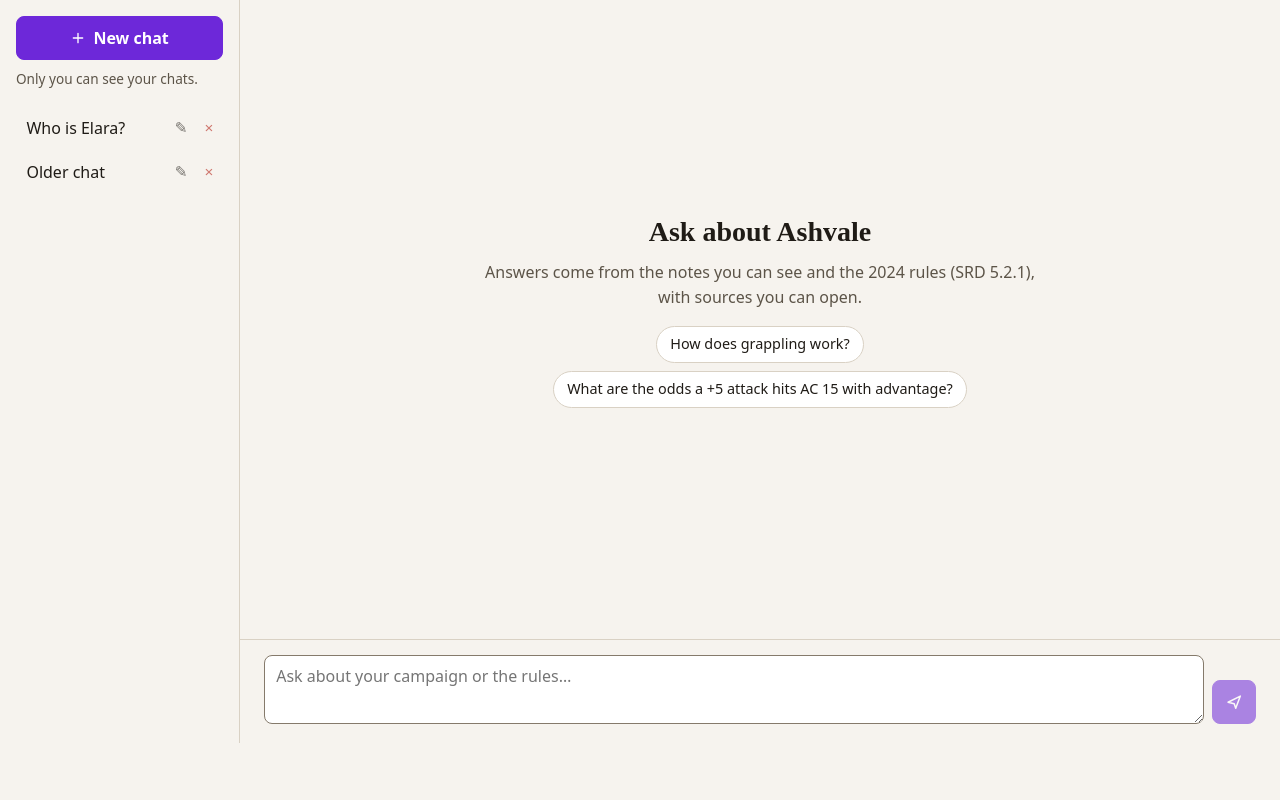
Test case: ChatPage thread switching › C2: an answer that arrives after switching threads isn't shown in the other thread
In the text box named "Your question": (734, 689) [264,655,1204,724], type "Who is Elara?"
Then press Enter
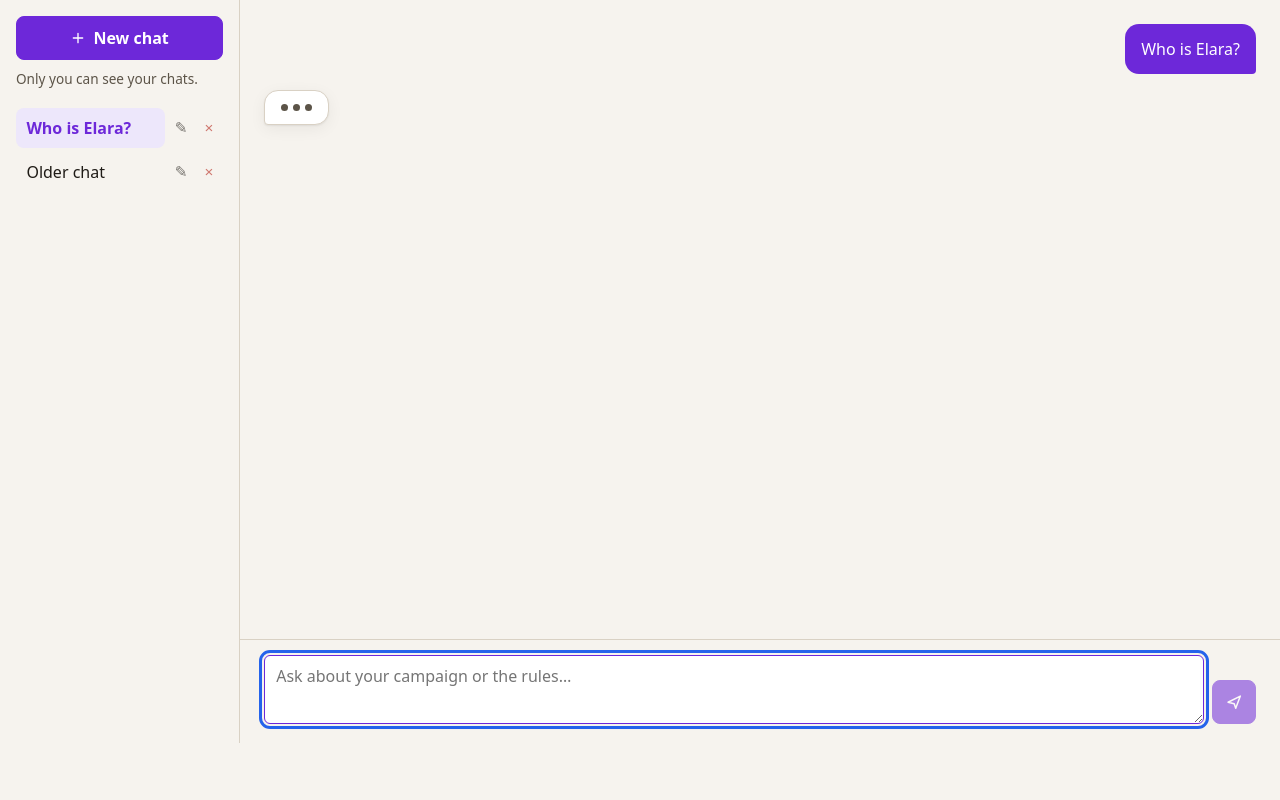
Click the button "Older chat": (90, 172) [16,152,165,192]
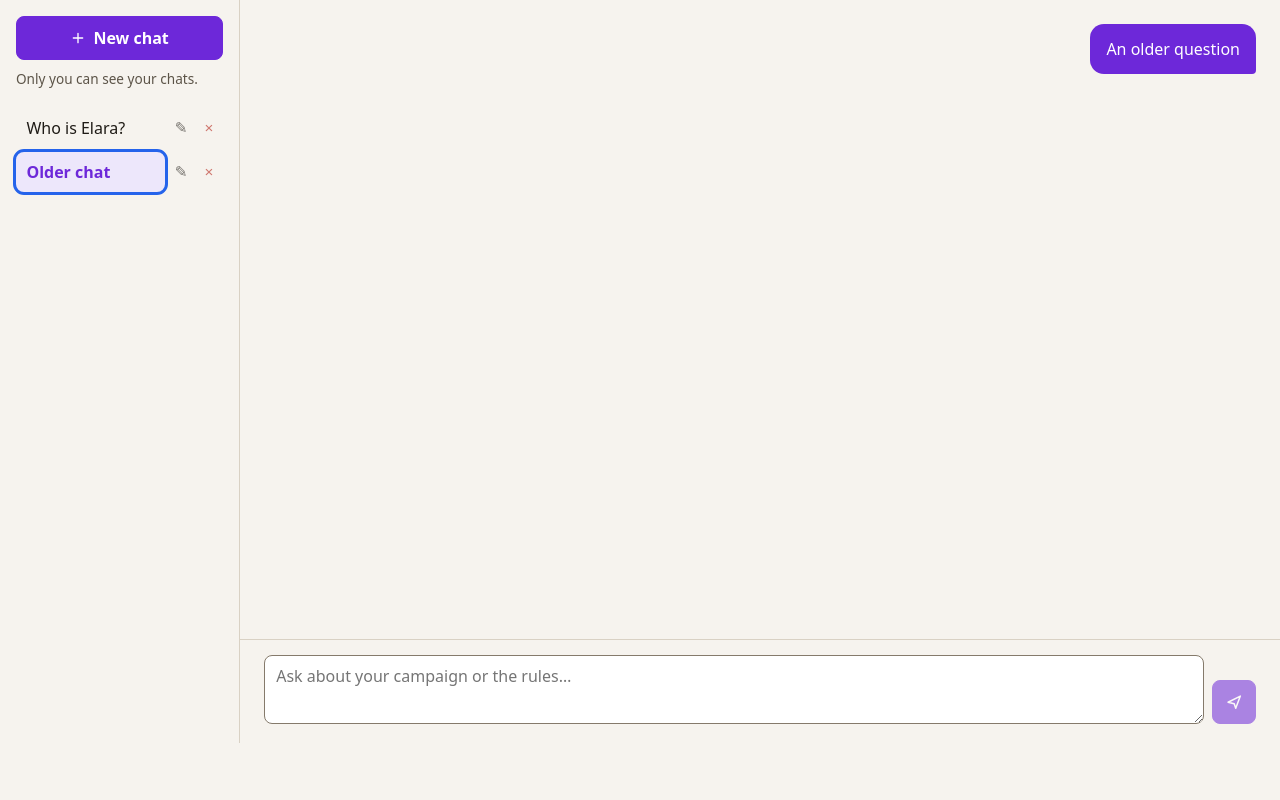
Now the text "An older question" is shown, box [1106,37,1240,62]
